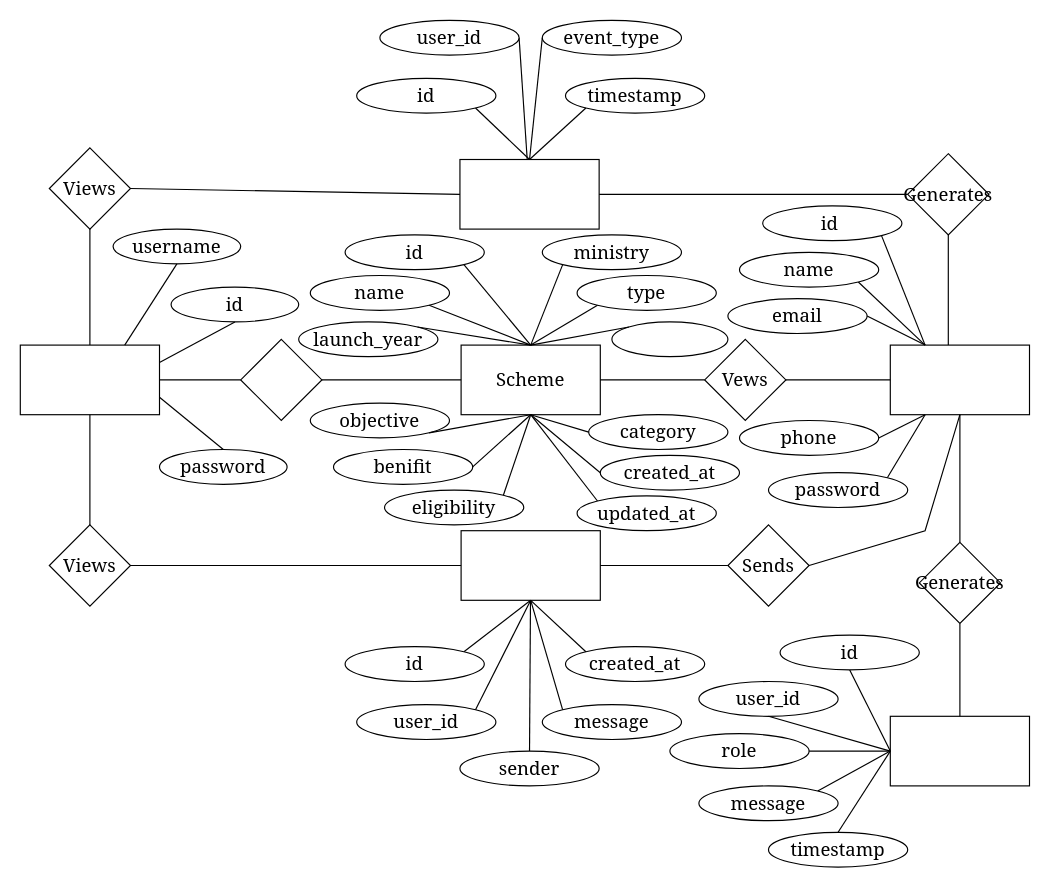
This 1050x887 diagram has some shape labels left out. Here are the shapes that lost their labels. From the top down, the centre of each, then its label:
At [529,193]: "User_activity".
At [669,339]: "status".
At [89,379]: "Admin".
At [281,379]: "Manages".
At [959,379]: "User".
At [530,565]: "Chat_message".
At [959,750]: "Chat_memory".
